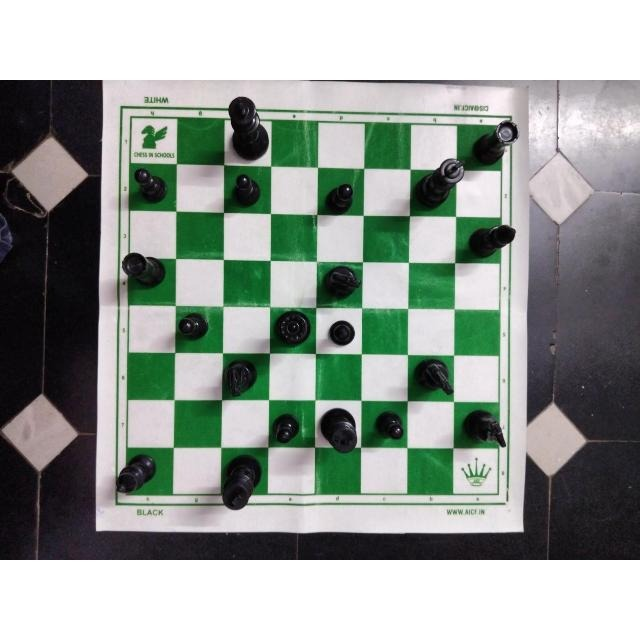black-bishop: (465, 220, 517, 262), (115, 453, 159, 497)
black-king: (411, 156, 467, 212), (226, 94, 272, 162), (220, 451, 267, 511), (316, 407, 365, 456)
black-knight: (408, 355, 455, 401), (460, 406, 507, 452), (221, 353, 261, 401), (317, 264, 363, 298)
black-pawn: (130, 166, 170, 204), (229, 171, 266, 209), (324, 180, 358, 219), (175, 309, 212, 342), (376, 409, 408, 444), (270, 413, 302, 445), (325, 319, 361, 347)
black-queen: (270, 307, 314, 347)
black-rook: (463, 119, 520, 169), (120, 251, 168, 293)
